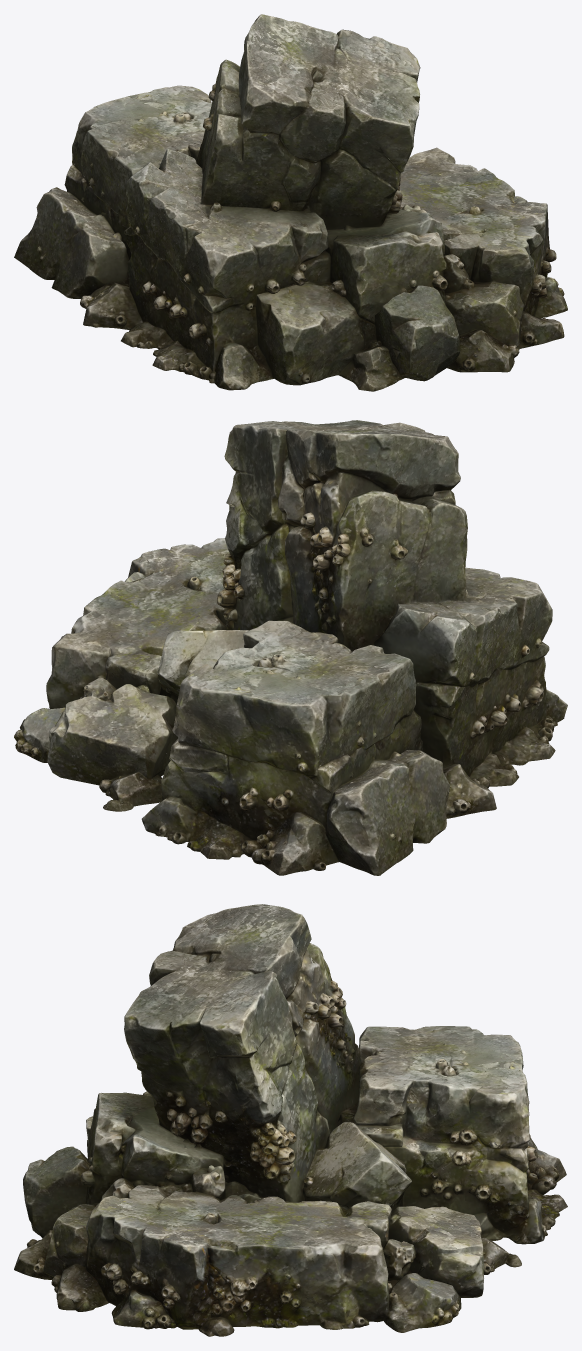
File: T23_rubble.glb
3 renders of one model, top to bottom at view 1: azimuth 30°, elevation 25°; view 2: azimuth 150°, elevation 25°; view 3: azimuth 270°, elevation 25°, orthographic. The views are drawn at different scales.
Parts seen in each view (by area): view 1: tripo_node_cd8743b5-a3bf-4058-880a-04174f408488; view 2: tripo_node_cd8743b5-a3bf-4058-880a-04174f408488; view 3: tripo_node_cd8743b5-a3bf-4058-880a-04174f408488.
Part boxes in pixels (x1=…): tripo_node_cd8743b5-a3bf-4058-880a-04174f408488: x1=14, y1=14, x2=567, y2=391; tripo_node_cd8743b5-a3bf-4058-880a-04174f408488: x1=14, y1=420, x2=567, y2=875; tripo_node_cd8743b5-a3bf-4058-880a-04174f408488: x1=14, y1=904, x2=567, y2=1336.
Bounding box in the file's own units: 0.8625 × 0.5849 × 0.98.
1 material, 1 textured.
